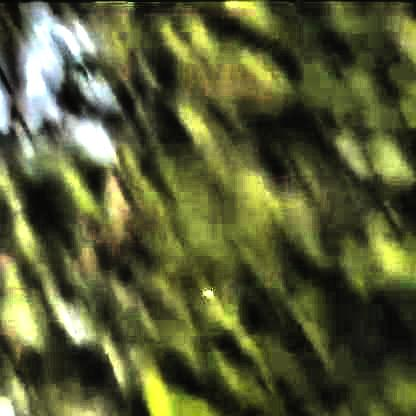golfball: (201, 287, 212, 298)
